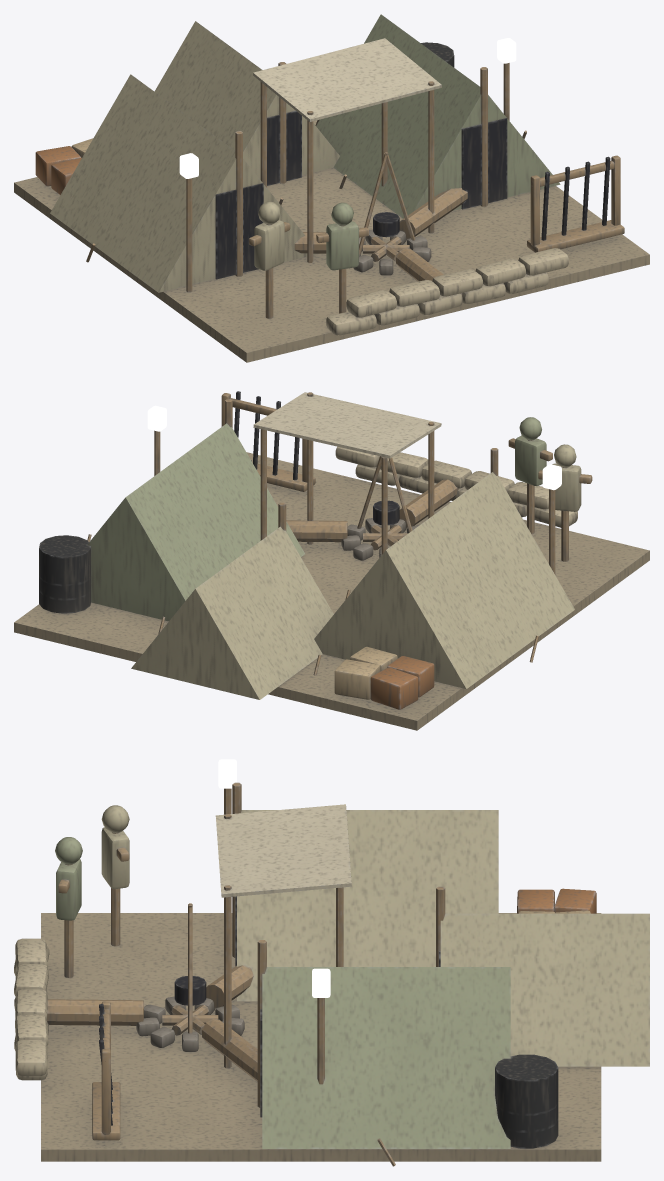
The model's file is shadow_barracks.glb.
The picture shows the model from 3 angles, top to bottom: view 1: azimuth 30°, elevation 25°; view 2: azimuth 150°, elevation 25°; view 3: azimuth 270°, elevation 25°; orthographic projection. The views are drawn at different scales.
Visible parts, largest first — view 1: Hull; view 2: Hull; view 3: Hull.
Boxes of the visible parts, x1=… form: Hull: x1=14, y1=14, x2=649, y2=362; Hull: x1=14, y1=391, x2=649, y2=730; Hull: x1=14, y1=759, x2=649, y2=1166.
Size of the model in its own units: 6.58 by 2.35 by 6.81.
12 materials, 12 textured.
